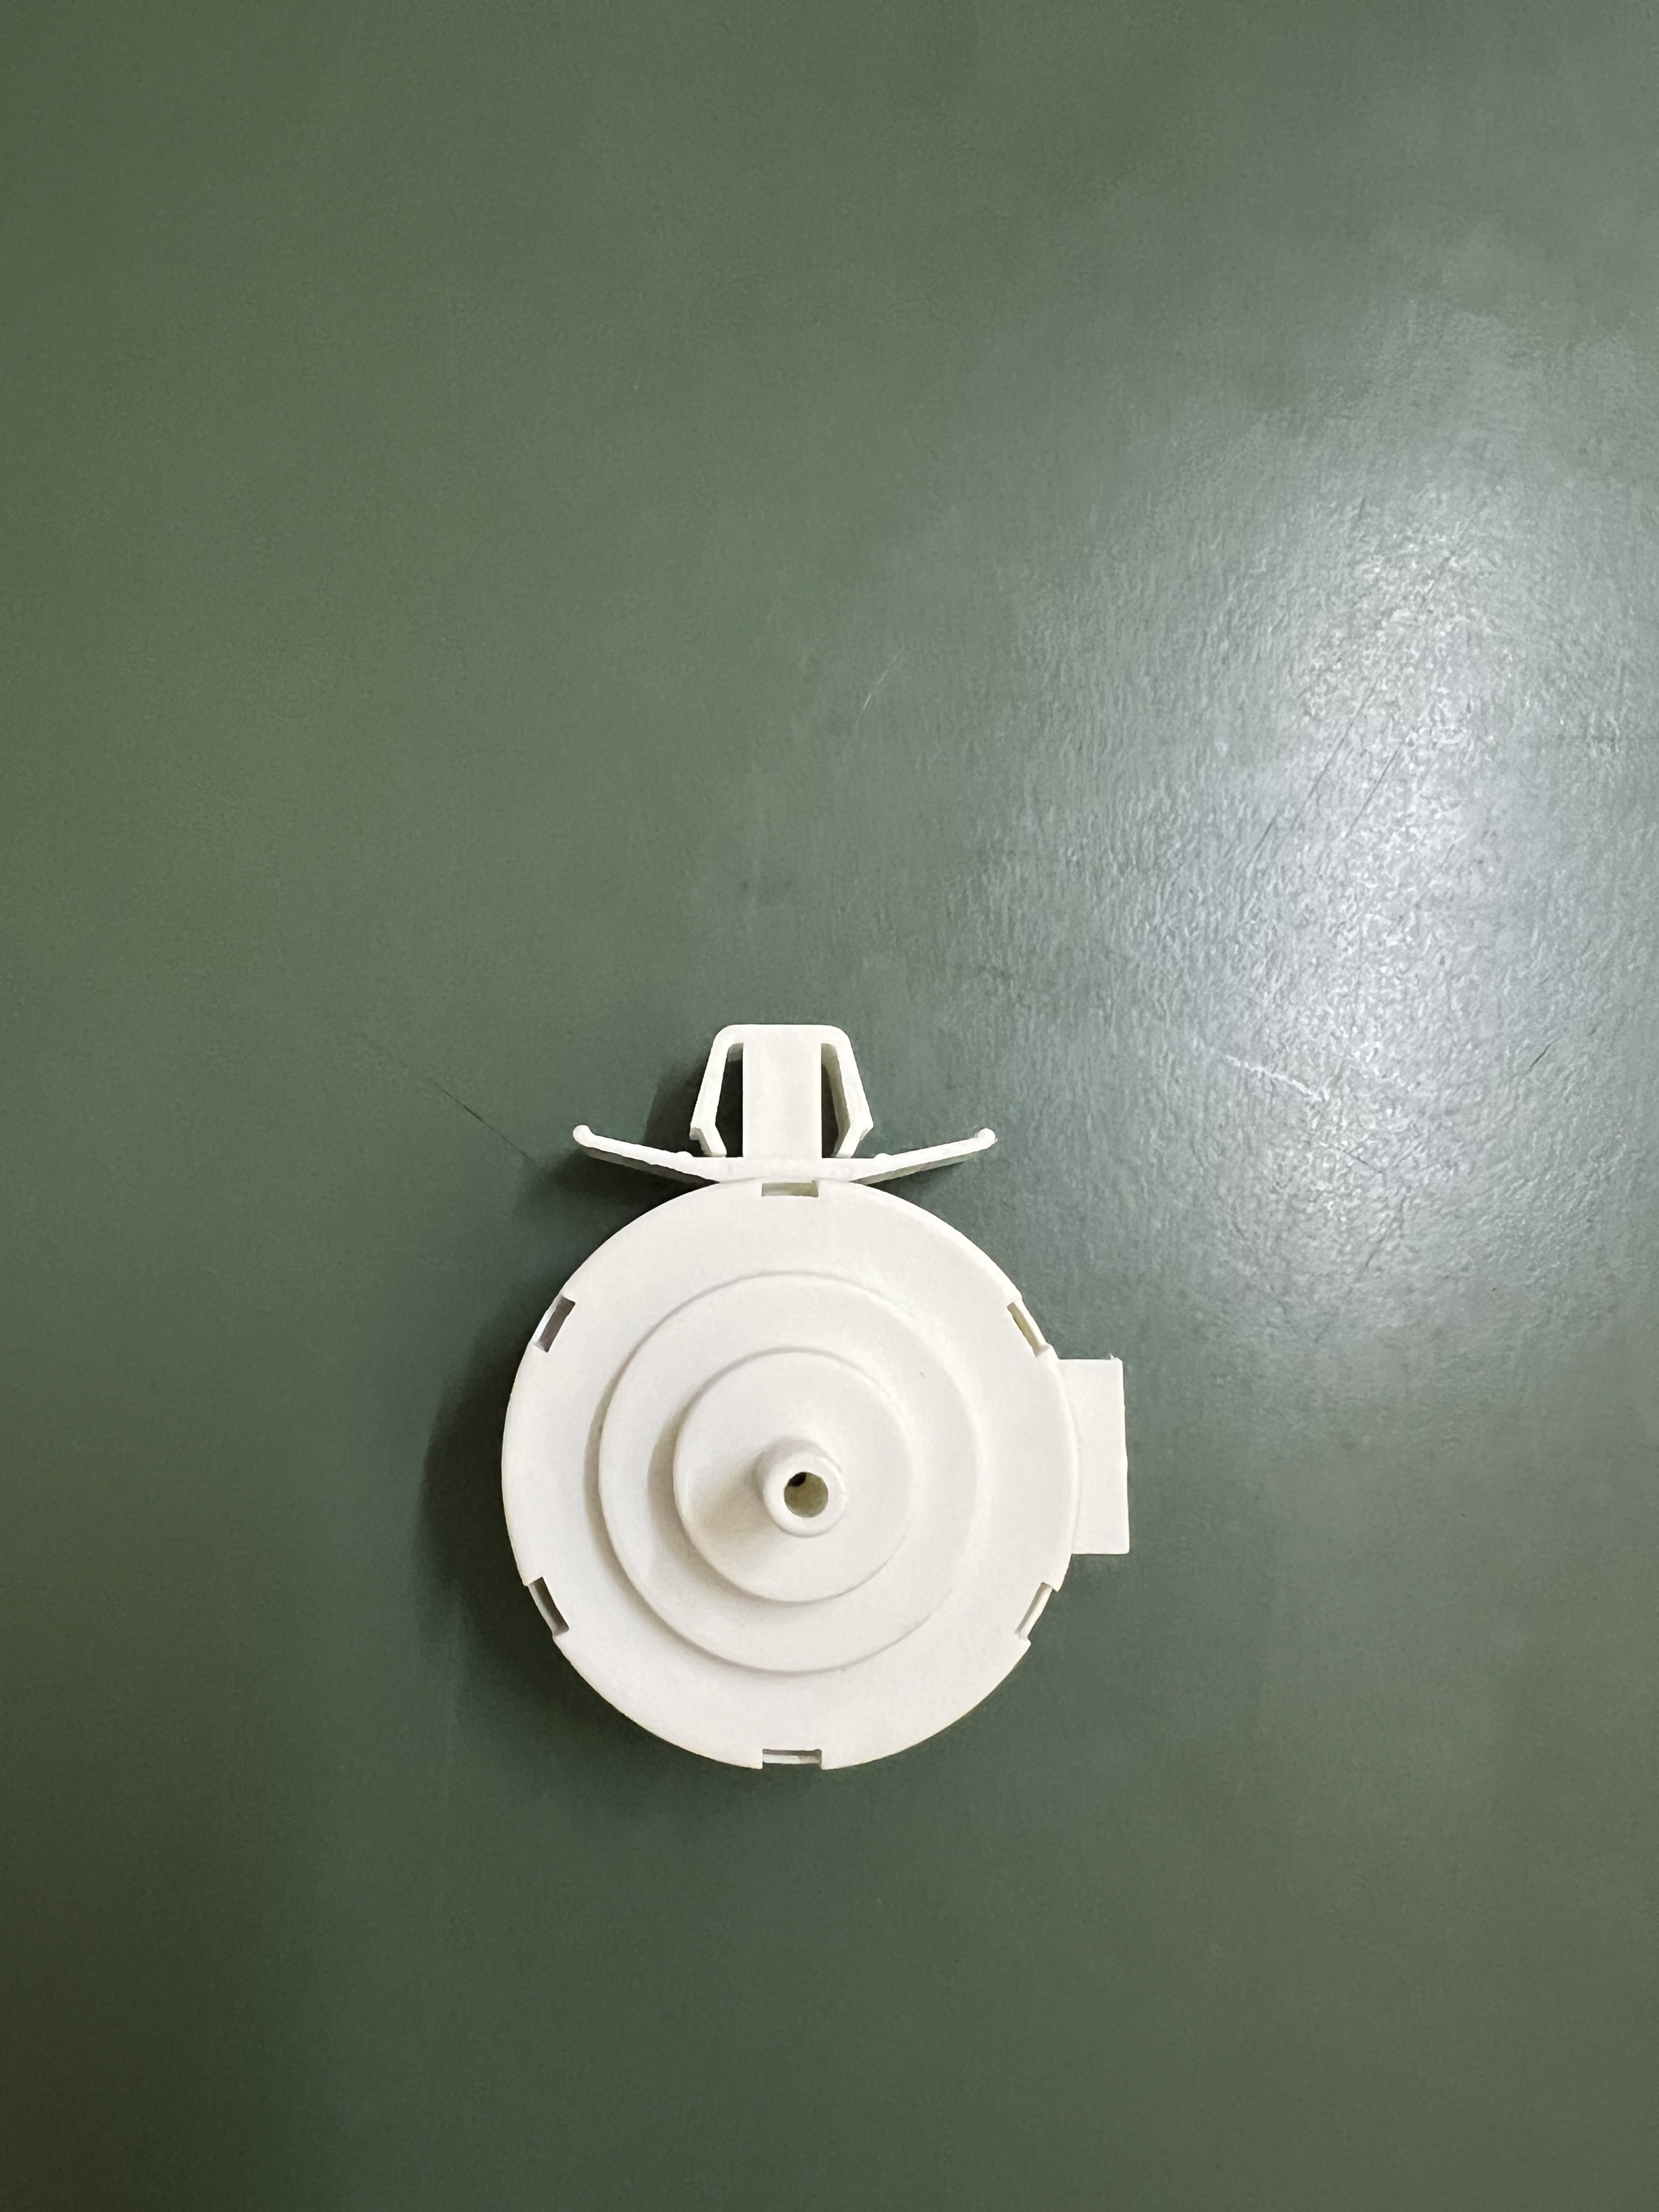pressure_switch_2: (472, 993, 1173, 1797)
